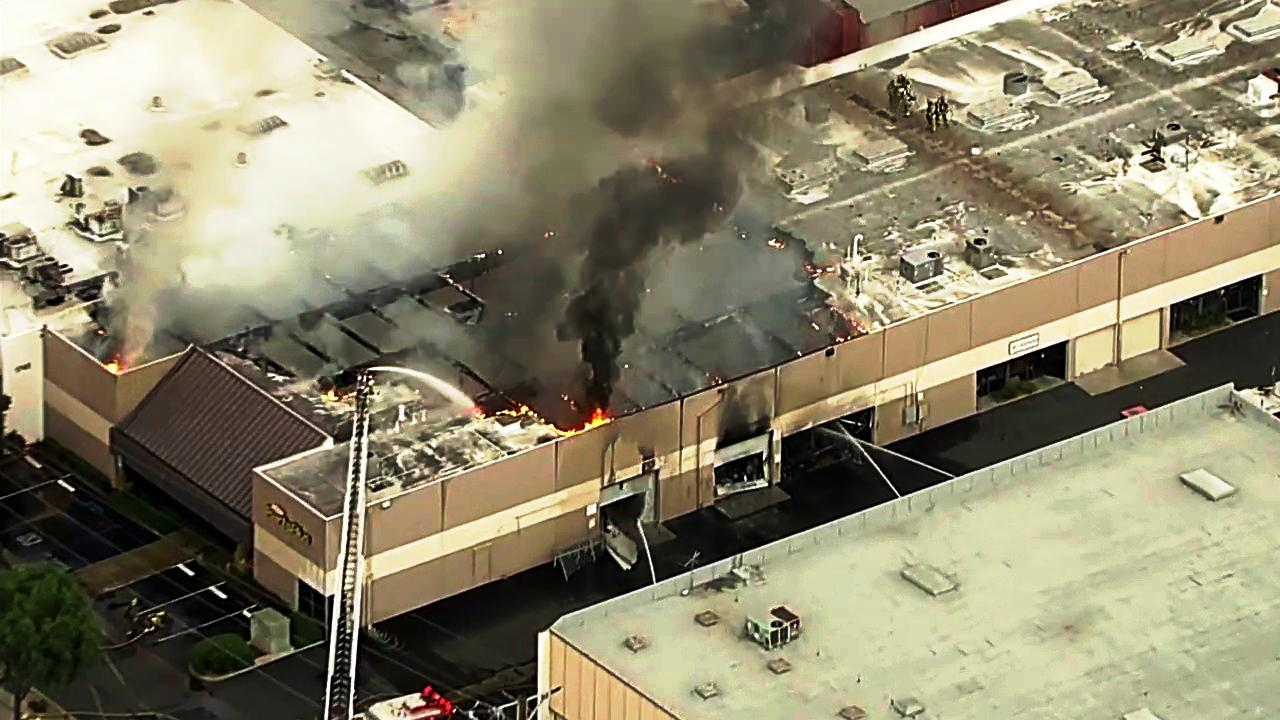smoke: (569, 124, 722, 385)
